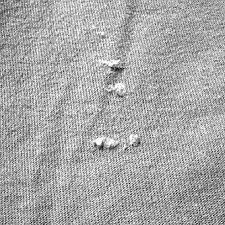Hole: (84, 25, 144, 112), (85, 124, 155, 157)
